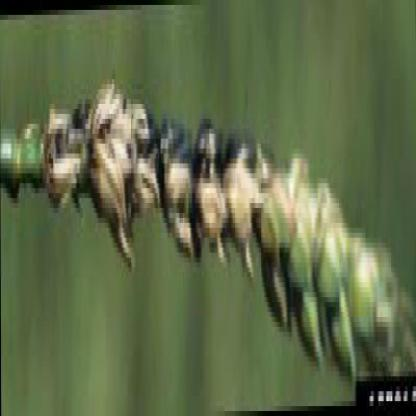Wheat Smut: (50, 114, 76, 184), (131, 115, 154, 191), (199, 122, 221, 184), (264, 239, 278, 288), (156, 114, 163, 200), (100, 112, 112, 158), (172, 126, 188, 160), (238, 128, 249, 163), (190, 203, 197, 258), (108, 191, 118, 227), (280, 256, 287, 298), (93, 174, 104, 200), (253, 140, 260, 180), (80, 104, 90, 131), (121, 186, 128, 223), (228, 141, 236, 165), (272, 297, 278, 318)
